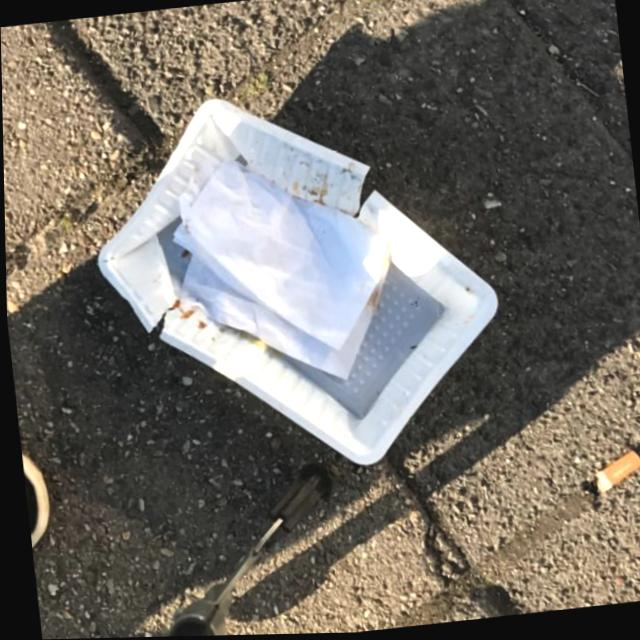Paper: (159, 142, 404, 400)
Plastic: (75, 68, 518, 503)
